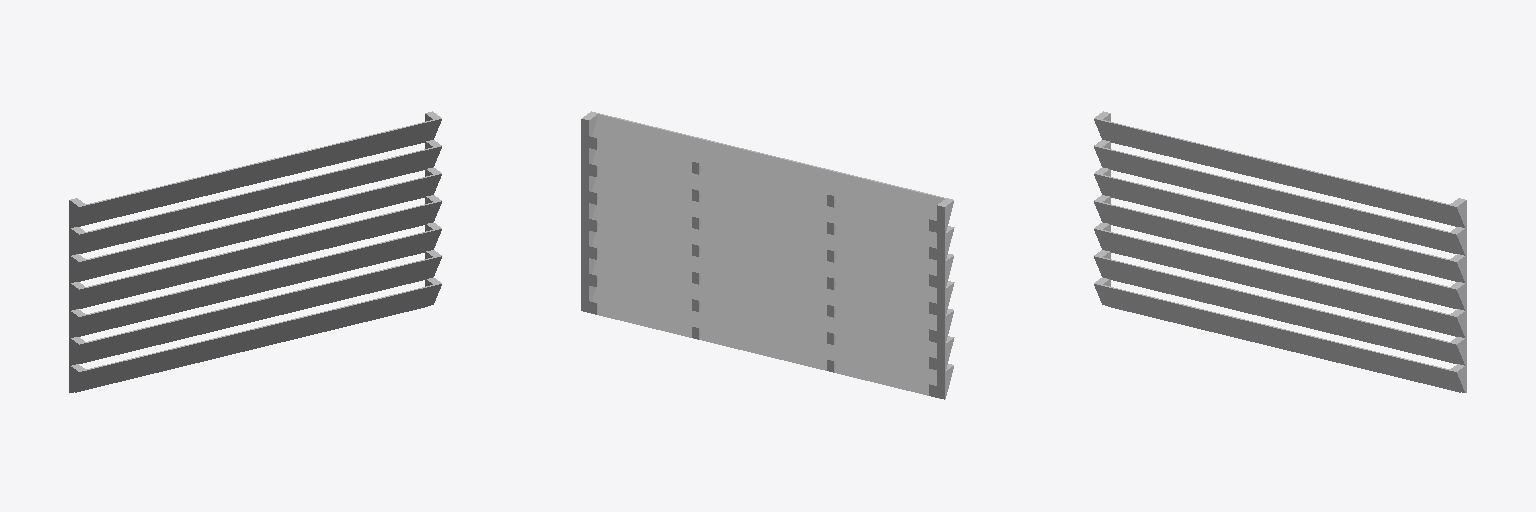
File: new50ShadesOfAmerica1.obj
3 views of the same model, side by side, from view 1: azimuth 30°, elevation 25°; view 2: azimuth 150°, elevation 25°; view 3: azimuth 330°, elevation 25° (orthographic).
Size of the model in its own units: 85 by 43.25 by 4.01.